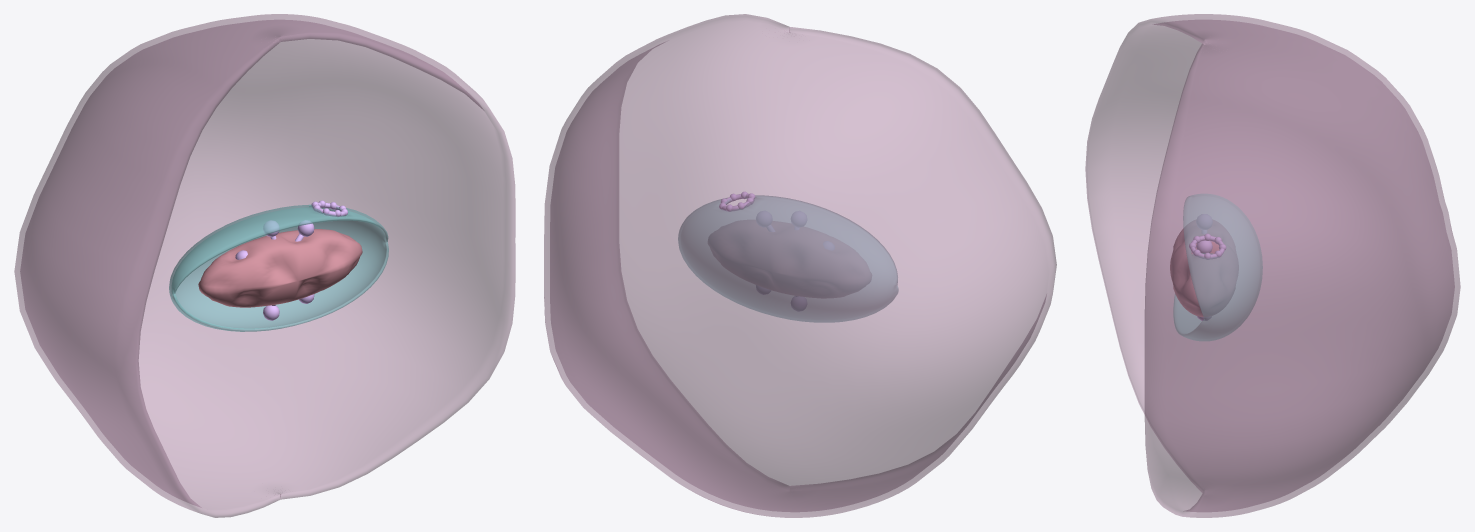
The model's file is apoptosome_cell.glb.
3 views of the same model, side by side, from view 1: azimuth 30°, elevation 25°; view 2: azimuth 150°, elevation 25°; view 3: azimuth 270°, elevation 25° (orthographic).
Parts seen in each view (by area): view 1: Cell_Cortex_Cutaway, Collapsed_Mito_Outer, Collapsed_Mito_Cristae, Apoptosome_Wheel; view 2: Cell_Cortex_Cutaway, Collapsed_Mito_Outer; view 3: Cell_Cortex_Cutaway, Collapsed_Mito_Outer, Collapsed_Mito_Cristae, Collapsed_Mito_Pore.
Boxes of the visible parts, box(x1,y1,x2,y2) form: Cell_Cortex_Cutaway: box(14, 14, 515, 517); Collapsed_Mito_Outer: box(169, 204, 388, 331); Collapsed_Mito_Cristae: box(198, 229, 362, 307); Apoptosome_Wheel: box(235, 220, 314, 320); Cell_Cortex_Cutaway: box(544, 14, 1056, 517); Collapsed_Mito_Outer: box(678, 195, 898, 322); Cell_Cortex_Cutaway: box(1085, 14, 1460, 517); Collapsed_Mito_Outer: box(1173, 194, 1262, 340); Collapsed_Mito_Cristae: box(1170, 228, 1219, 316); Collapsed_Mito_Pore: box(1189, 233, 1226, 259).
Size of the model in its own units: 12.4 by 12.4 by 9.25.
